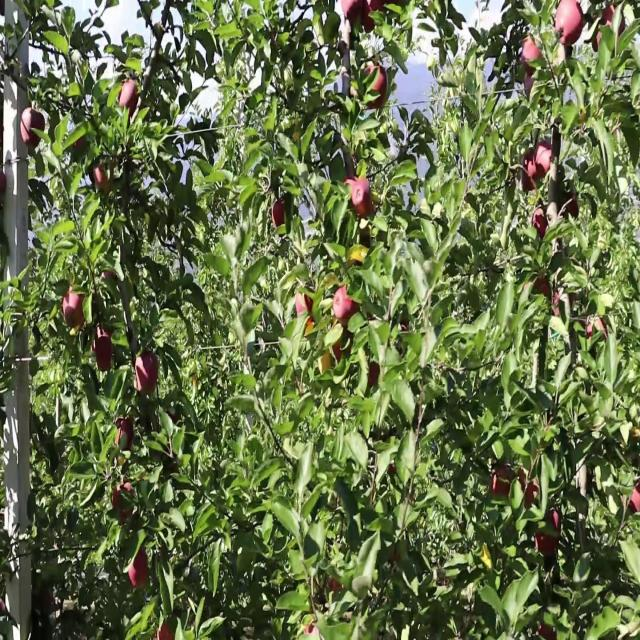apple: (556, 0, 584, 50), (536, 511, 561, 558), (364, 63, 388, 110), (24, 106, 47, 149), (136, 355, 160, 395), (128, 547, 150, 590), (352, 177, 374, 220), (336, 284, 359, 325), (64, 291, 86, 332), (520, 35, 543, 73), (604, 7, 627, 43), (120, 78, 140, 119), (92, 334, 113, 370), (112, 483, 133, 517), (536, 142, 553, 180), (116, 419, 135, 453), (364, 0, 386, 28), (96, 163, 115, 194), (492, 469, 512, 498), (532, 206, 549, 240), (96, 341, 114, 373), (524, 149, 537, 192), (552, 291, 571, 320), (528, 277, 551, 300), (520, 163, 538, 192), (344, 0, 363, 27), (296, 291, 314, 318), (272, 199, 288, 228), (524, 483, 541, 510), (588, 319, 608, 341), (584, 319, 604, 341), (364, 7, 379, 36), (328, 341, 344, 368), (340, 1, 359, 21), (628, 483, 640, 514), (96, 327, 113, 348), (592, 21, 603, 52), (160, 618, 176, 639), (328, 575, 343, 597), (320, 348, 333, 373), (368, 362, 380, 389), (524, 78, 536, 100), (332, 341, 344, 363), (568, 199, 580, 220), (540, 625, 556, 639), (520, 469, 530, 491), (304, 319, 316, 336), (388, 462, 396, 476), (4, 172, 8, 192)
